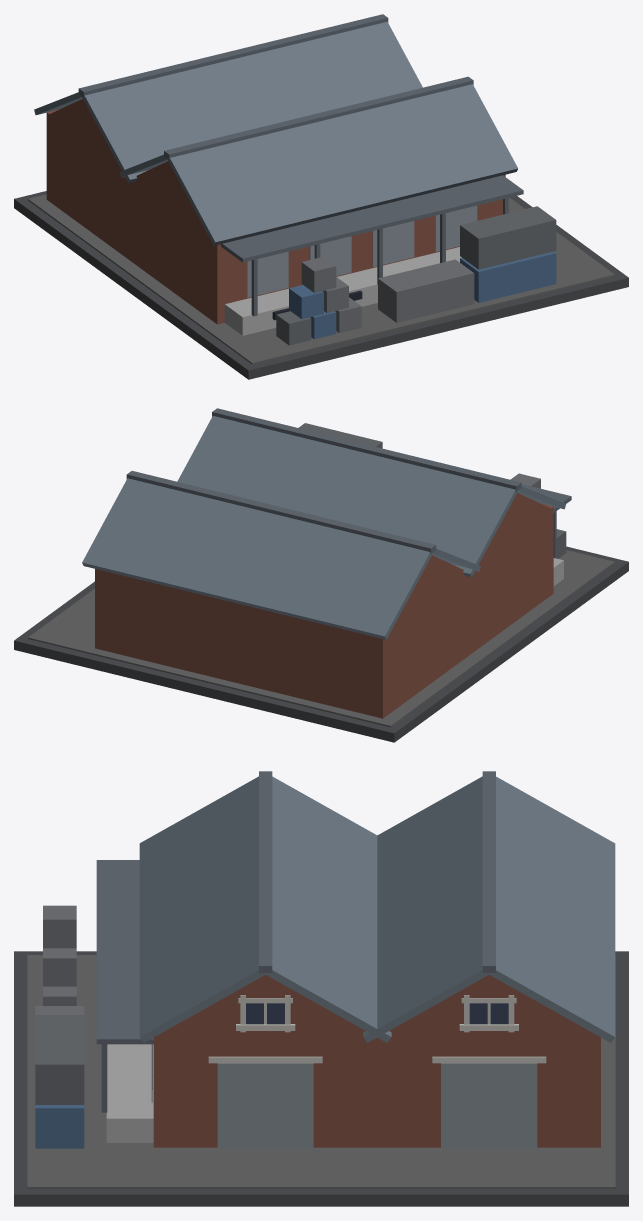
The model's file is warehouse_lvl3.glb.
3 views of the same model, one above another, from view 1: azimuth 30°, elevation 25°; view 2: azimuth 150°, elevation 25°; view 3: azimuth 270°, elevation 25° (orthographic). The views are drawn at different scales.
Parts seen in each view (by area): view 1: warehouse; view 2: warehouse; view 3: warehouse.
Part boxes in pixels (x1,y1,x2,y2): warehouse: [14, 14, 628, 379]; warehouse: [14, 408, 628, 742]; warehouse: [14, 771, 628, 1206].
Size of the model in its own units: 0.9364 by 0.3609 by 1.
